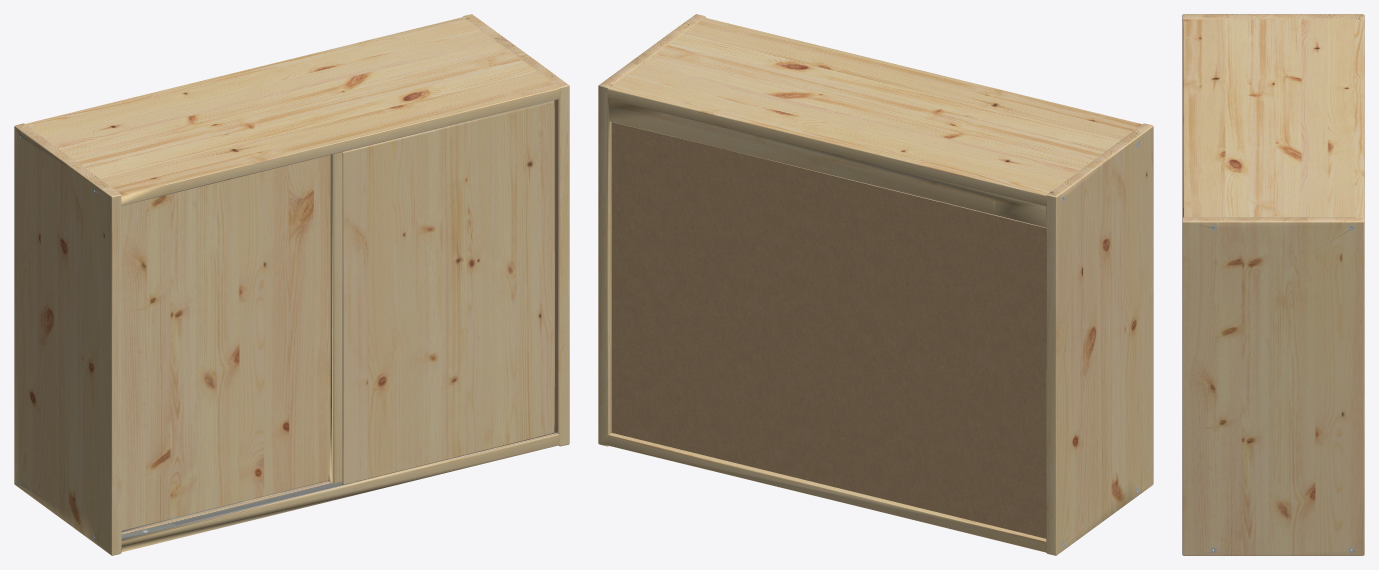
File: ivar_szafka_z_drzwiami_przesuwnymi_00494394.glb
3 renders of one model, left to right at view 1: azimuth 30°, elevation 25°; view 2: azimuth 150°, elevation 25°; view 3: azimuth 270°, elevation 25°, orthographic. The views are drawn at different scales.
Parts seen in each view (by area): view 1: ivar_szafka_z_drzwiami_przesuwnymi_00494394; view 2: ivar_szafka_z_drzwiami_przesuwnymi_00494394; view 3: ivar_szafka_z_drzwiami_przesuwnymi_00494394.
Part boxes in pixels (x1=…): ivar_szafka_z_drzwiami_przesuwnymi_00494394: x1=14, y1=14, x2=569, y2=555; ivar_szafka_z_drzwiami_przesuwnymi_00494394: x1=598, y1=14, x2=1153, y2=555; ivar_szafka_z_drzwiami_przesuwnymi_00494394: x1=1182, y1=14, x2=1364, y2=555.
Size of the model in its own units: 0.802 by 0.601 by 0.2963.
1 material, 1 textured.
